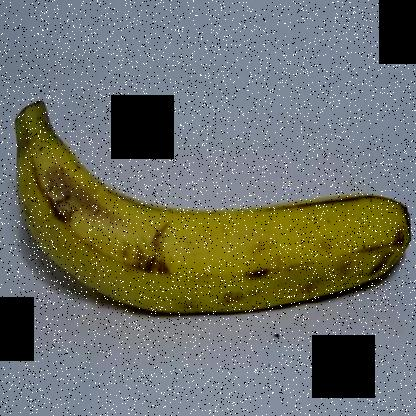ripe: (1, 91, 415, 319)
